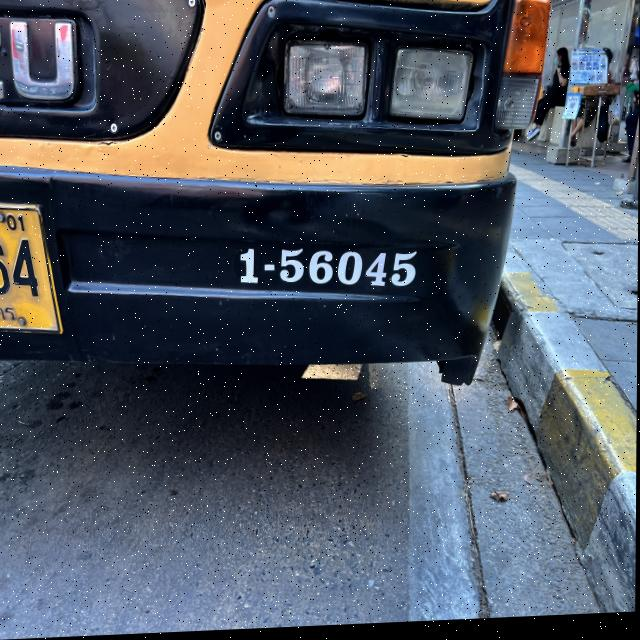BMTA-bus: (0, 0, 555, 415)
